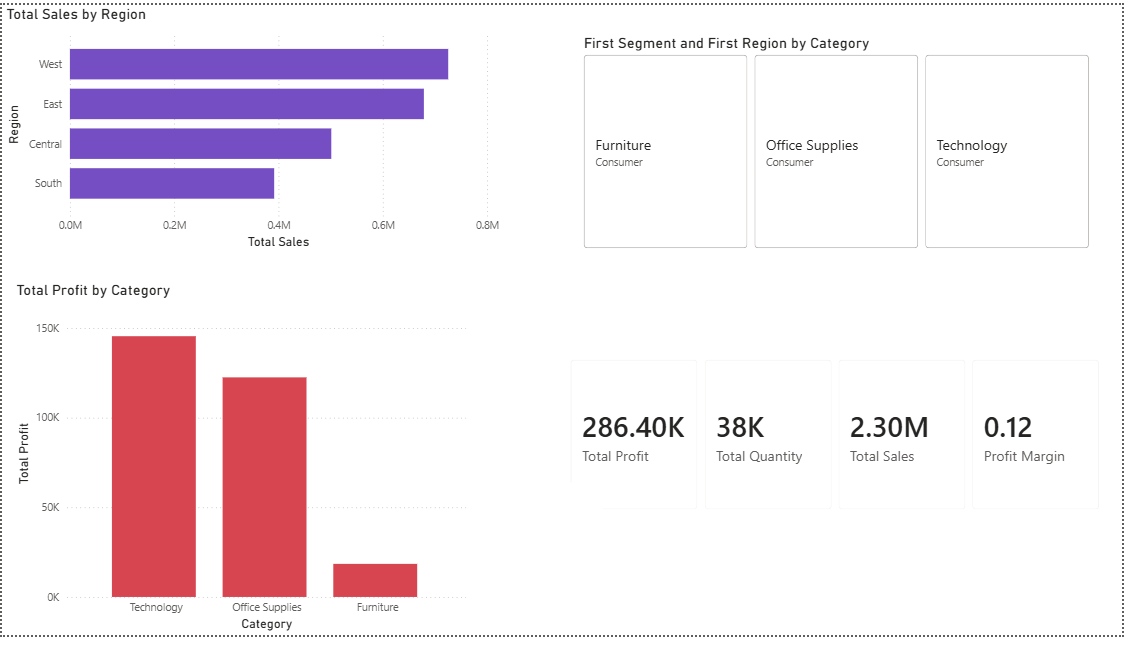

The dashboard page shown, as its layout file describes it:
{"tool":"powerbi","page":{"name":"Page 1","canvas":[1280,720],"ordinal":0},"visuals":[{"type":"cardVisual","fields":{"Data":["SampleSuperstore.Total Profit","SampleSuperstore.Total Quantity","SampleSuperstore.Total Sales","SampleSuperstore.Profit Margin"]},"box":[632.6,388.3,640.8,205.8],"z":0},{"type":"clusteredBarChart","fields":{"Y":["SampleSuperstore.Total Sales"],"Category":["SampleSuperstore.Region"]},"box":[0,0,573.6,284],"z":1000},{"type":"clusteredColumnChart","fields":{"Category":["SampleSuperstore.Category"],"Y":["SampleSuperstore.Total Profit"]},"box":[11,315.6,524.2,404.8],"z":3000},{"type":"advancedSlicerVisual","fields":{"Values":["SampleSuperstore.Category"],"Label":["Min(SampleSuperstore.Segment)"]},"box":[660,32.9,587.3,251.1],"z":5001},{"type":"textbox","box":[535,545,150,175],"z":5002}]}

Visuals, with their boxes in screenshot pixels (x1, y1, x2, y2), scaled from the page's 1280x720 canvas onto the 1133x646 screenshot:
cardVisual - SampleSuperstore.Total Profit x SampleSuperstore.Total Quantity: region(560, 348, 1127, 533)
clusteredBarChart - SampleSuperstore.Total Sales x SampleSuperstore.Region: region(0, 0, 508, 255)
clusteredColumnChart - SampleSuperstore.Category x SampleSuperstore.Total Profit: region(10, 283, 474, 645)
advancedSlicerVisual - SampleSuperstore.Category x Min(SampleSuperstore.Segment): region(584, 30, 1104, 255)
textbox: region(474, 489, 606, 645)
